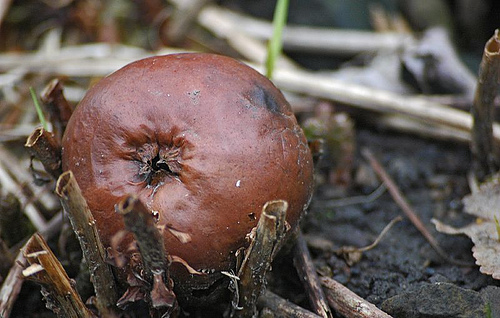apple: (56, 51, 316, 291)
